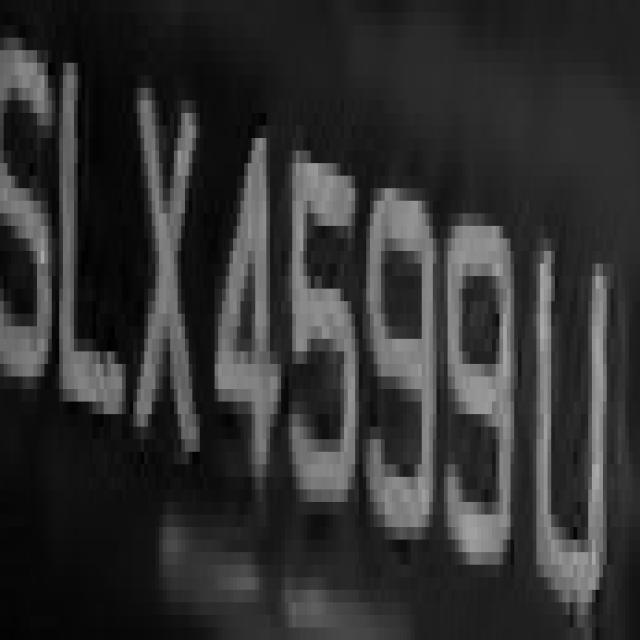4: (204, 38, 288, 552)
5: (288, 88, 359, 552)
9: (358, 125, 448, 590), (433, 188, 518, 602)
L: (52, 63, 137, 439)
S: (7, 13, 52, 439)
U: (533, 176, 614, 615)
X: (122, 25, 207, 502)
